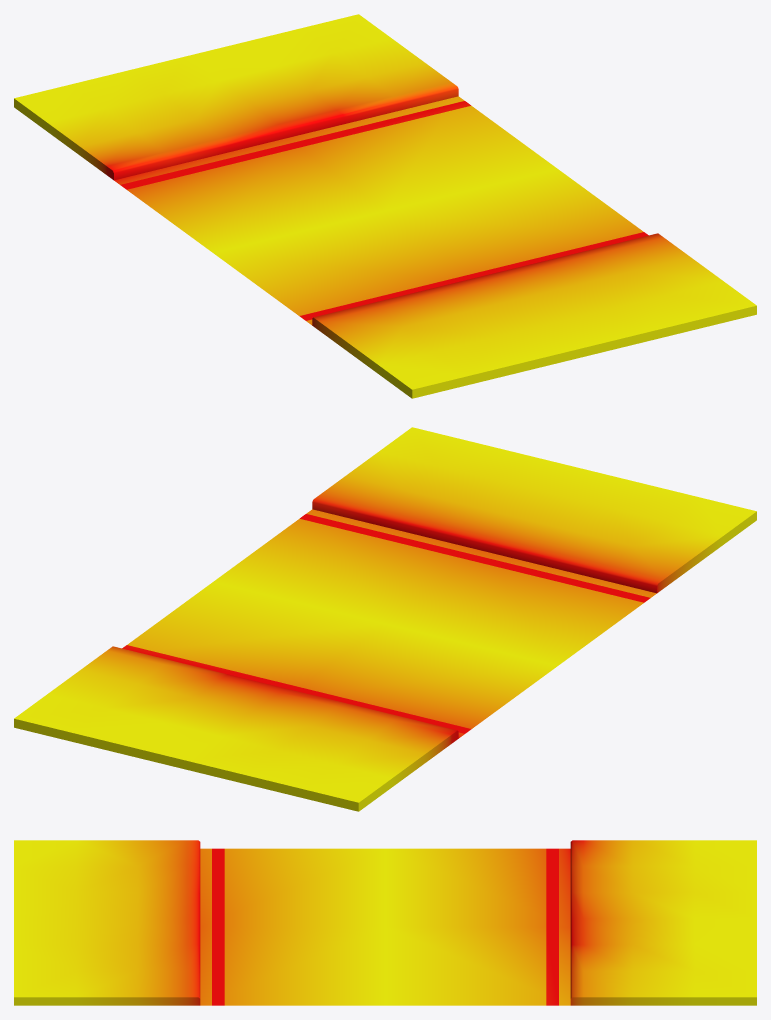
File: street-2lane.glb
3 views of the same model, one above another, from view 1: azimuth 30°, elevation 25°; view 2: azimuth 150°, elevation 25°; view 3: azimuth 270°, elevation 25° (orthographic). The views are drawn at different scales.
Parts seen in each view (by area): view 1: Street_2Lane; view 2: Street_2Lane; view 3: Street_2Lane.
Boxes of the visible parts, x1,y1,x2,y2 form: Street_2Lane: (14, 14, 756, 398); Street_2Lane: (14, 427, 756, 811); Street_2Lane: (14, 840, 756, 1005).
Bounding box in the file's own units: 6 × 0.15 × 12.
3 materials, 3 textured.
